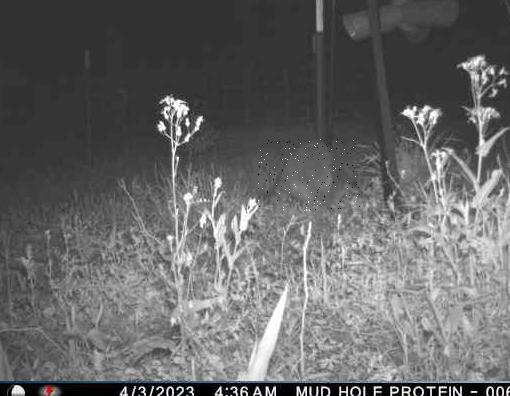Raccoon: (259, 140, 362, 212)
